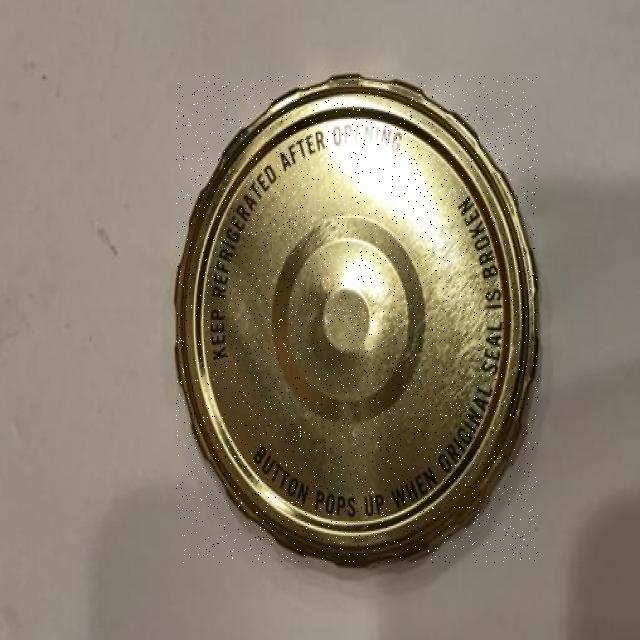metal: (177, 76, 538, 563)
